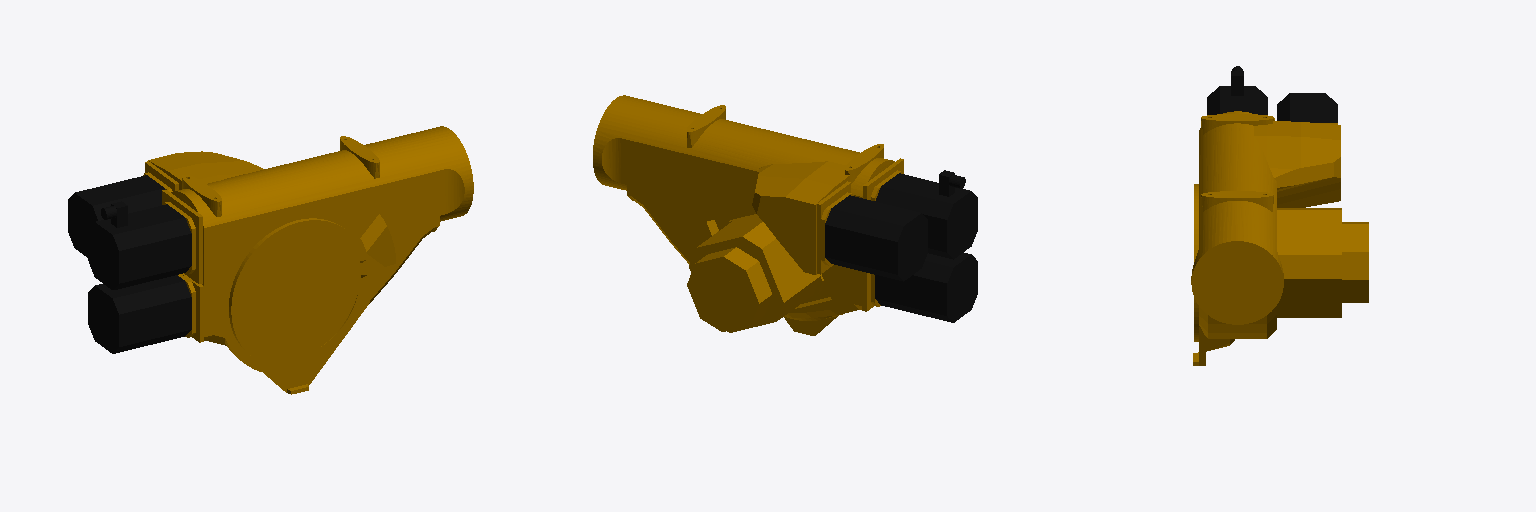
The picture shows the model from 3 angles: view 1: azimuth 30°, elevation 25°; view 2: azimuth 150°, elevation 25°; view 3: azimuth 270°, elevation 25°; orthographic projection.
Visible parts, largest first — view 1: kr60_4_kr60_3.003; view 2: kr60_4_kr60_3.003; view 3: kr60_4_kr60_3.003.
Boxes of the visible parts, x1,y1,x2,y2 form: kr60_4_kr60_3.003: [68, 126, 473, 394]; kr60_4_kr60_3.003: [593, 95, 977, 335]; kr60_4_kr60_3.003: [1191, 66, 1368, 365].
Bounding box in the file's own units: 0.9811 × 0.5685 × 0.4339.